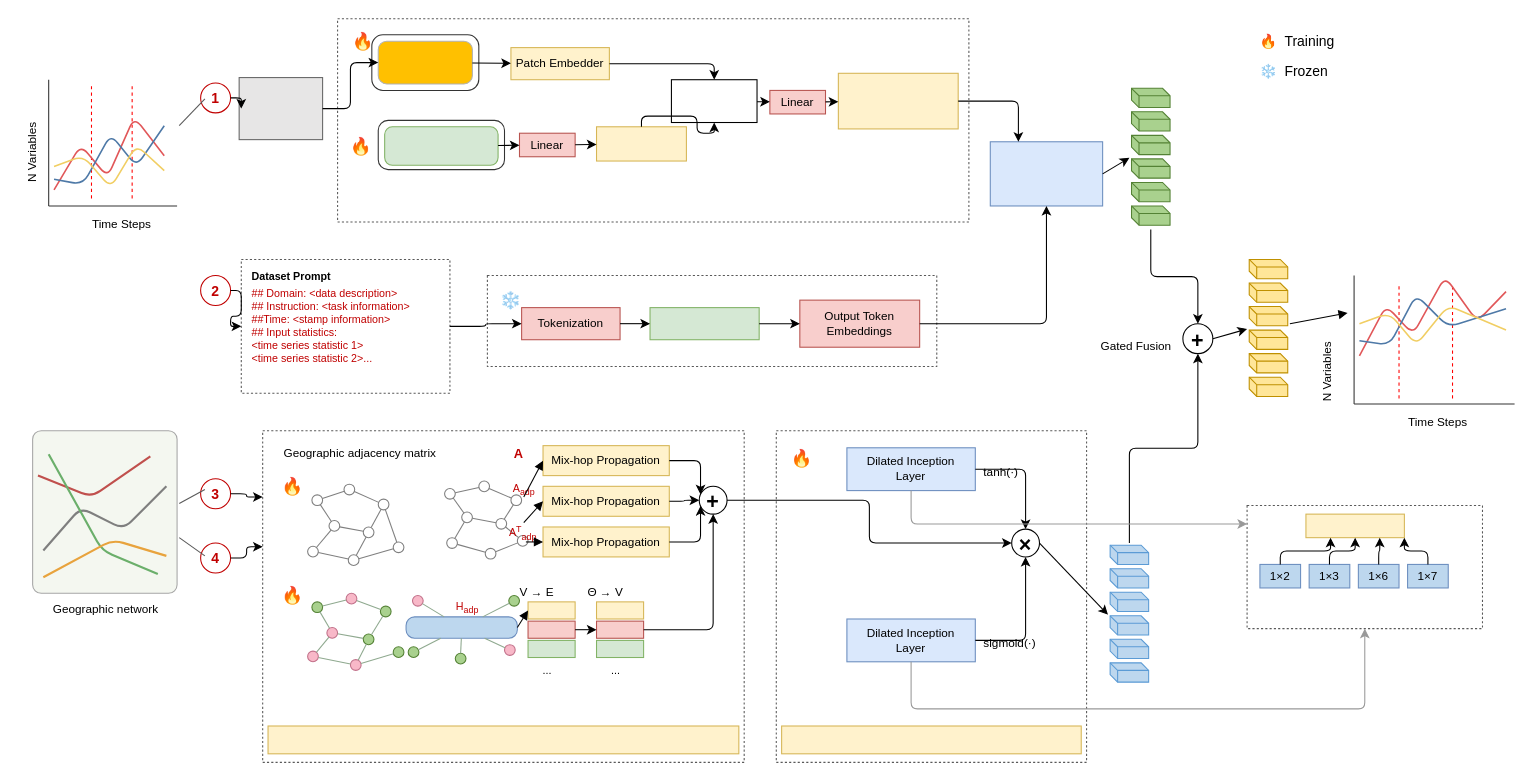
The diagram is 1534 pixels wide and 781 high, and some of its shapes have lost their labels. The shapes that lost their labels are listed below. From the top down, each one's centre as x and y in pixels, then its label:
the point at 424,62: Time Series Patches
the point at 280,108: Instance Norm
the point at 713,101: Multi-Head Attention
the point at 897,100: Reprogrammed Patch Embeddings
the point at 441,145: Pre-trained Word Embeddings
the point at 640,143: Text Prototypes
the point at 1046,173: ❄️ Pre-trained LLM
the point at 704,323: Token Embedder
the point at 1354,525: Concatenate
the point at 503,739: Adaptive High-order Spatial Learning Module
the point at 931,739: Temporal Learning module
